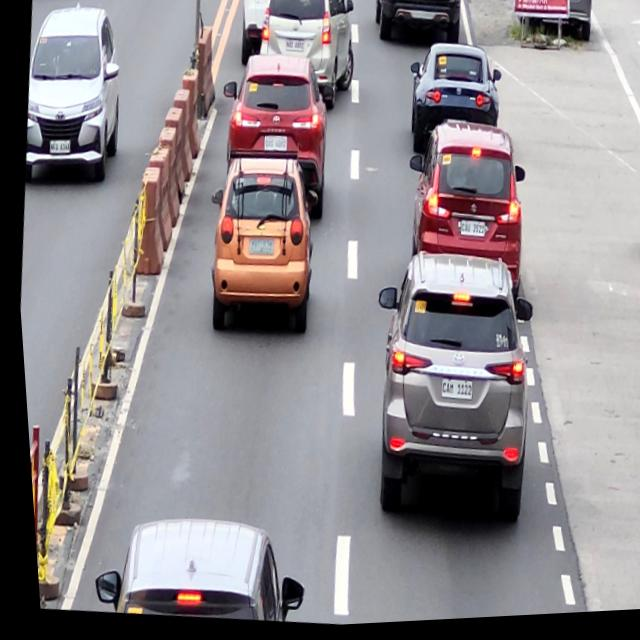Car: (345, 245, 544, 540), (79, 506, 303, 633), (392, 121, 535, 308), (192, 152, 323, 343), (207, 49, 339, 224), (252, 0, 364, 119), (398, 45, 505, 160), (369, 0, 466, 52), (233, 0, 280, 76)
License-Plate: (434, 380, 468, 405), (455, 222, 483, 243), (259, 137, 286, 157), (244, 239, 271, 258), (283, 40, 304, 55)
Motorcycle: (629, 132, 640, 274)
